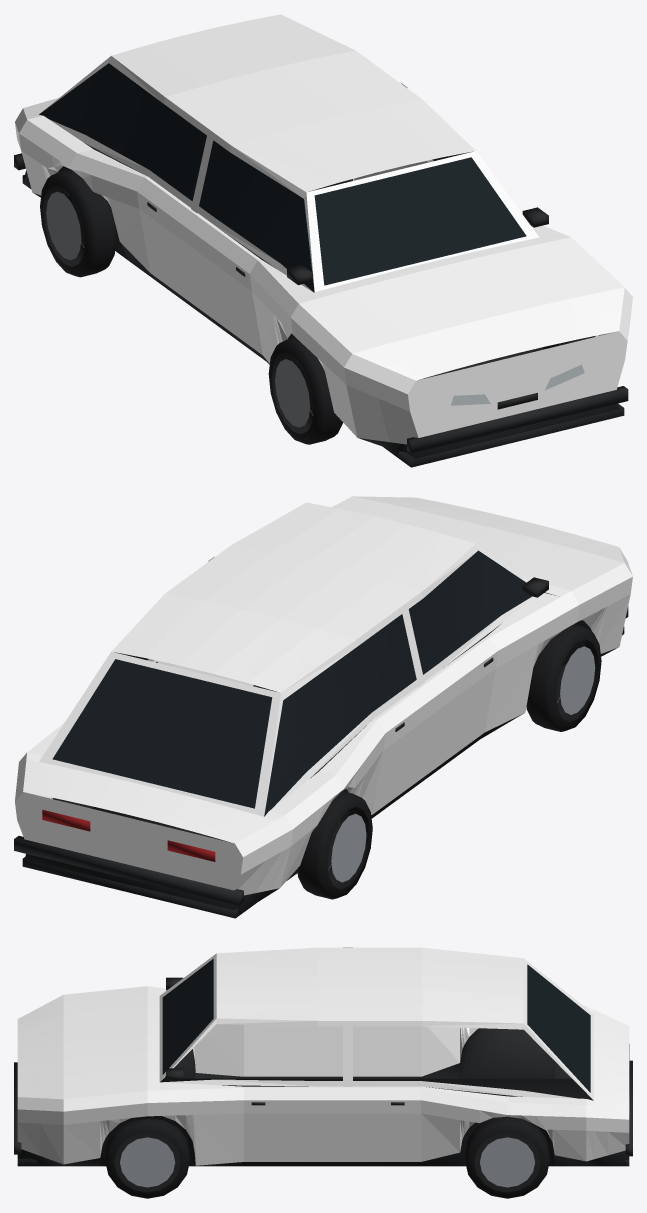
The model's file is varenna_turbina.glb.
3 views of the same model, one above another, from view 1: azimuth 30°, elevation 25°; view 2: azimuth 150°, elevation 25°; view 3: azimuth 270°, elevation 25° (orthographic). The views are drawn at different scales.
Parts seen in each view (by area): view 1: Body_Paint, Body_Details, Mount_RearLeft_Wheel_Details, Mount_FrontLeft_Wheel_Details; view 2: Body_Paint, Body_Details, Mount_FrontLeft_Wheel_Details, Mount_RearLeft_Wheel_Details; view 3: Body_Paint, Body_Details, Mount_RearRight_Wheel_Details, Mount_FrontRight_Wheel_Details.
Boxes of the visible parts, x1,y1,x2,y2 form: Body_Paint: (15, 14, 632, 444); Body_Details: (14, 63, 628, 467); Mount_RearLeft_Wheel_Details: (40, 169, 116, 277); Mount_FrontLeft_Wheel_Details: (268, 337, 343, 444); Body_Paint: (15, 496, 632, 895); Body_Details: (14, 550, 628, 918); Mount_FrontLeft_Wheel_Details: (526, 624, 601, 731); Mount_RearLeft_Wheel_Details: (297, 791, 372, 899); Body_Paint: (17, 947, 629, 1165); Body_Details: (14, 959, 632, 1166); Mount_RearRight_Wheel_Details: (465, 1116, 549, 1198); Mount_FrontRight_Wheel_Details: (105, 1118, 190, 1198).
Bounding box in the file's own units: 1.94 × 1.34 × 4.57.
Materials: 2 (1 with a texture image).
